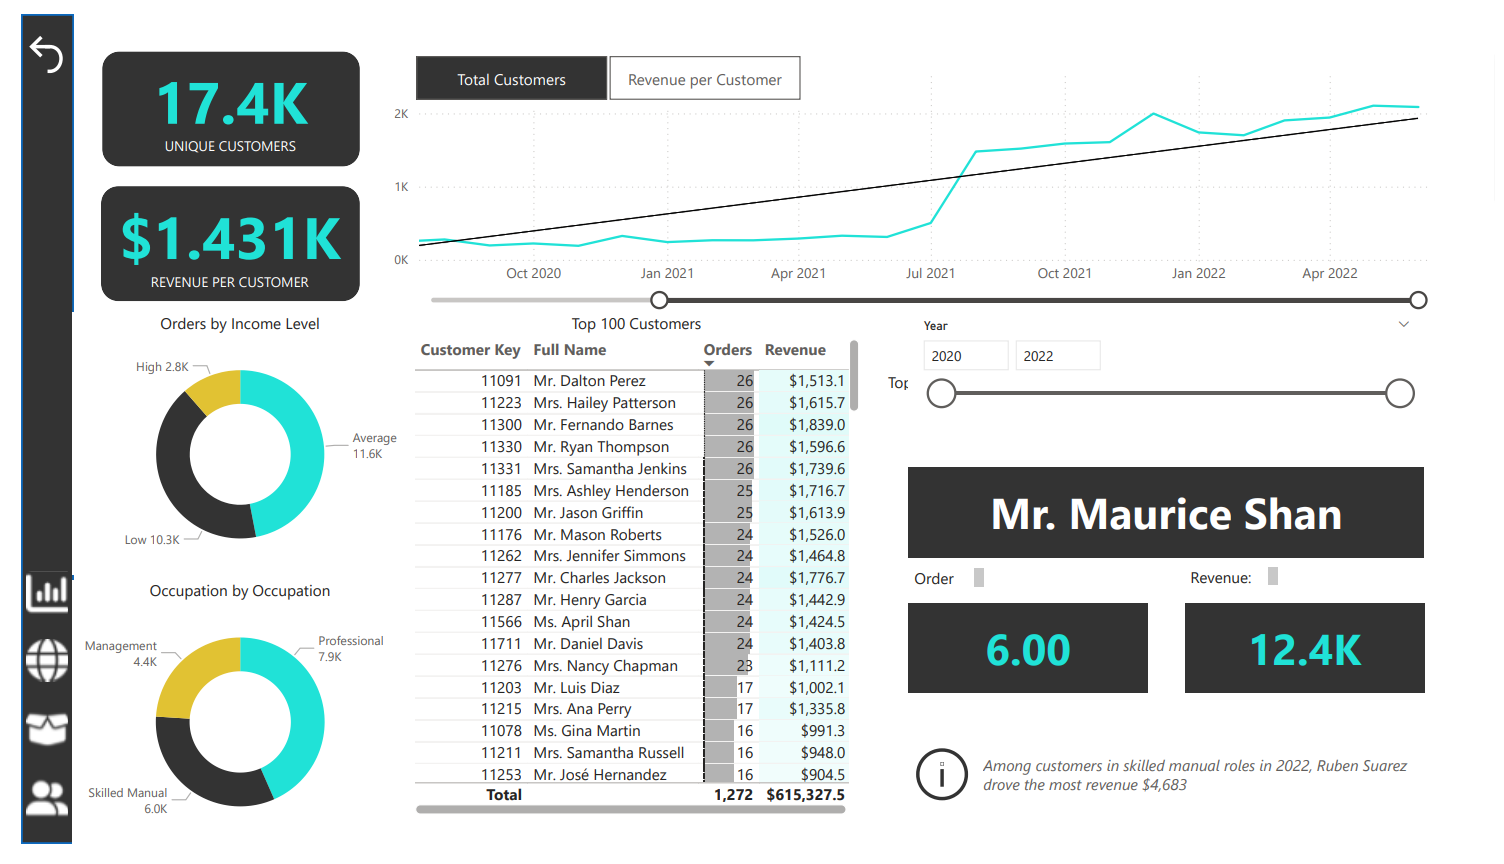

Layout of this report page (visuals, bound fields, positions):
{"tool":"powerbi","page":{"name":"Customer Detail","canvas":[1280,720],"ordinal":3},"visuals":[{"type":"shape","title":"Left Nav Background","box":[0,0,45,720],"z":0},{"type":"actionButton","box":[0,477.1,44.3,50],"z":0,"group":"g1"},{"type":"shape","box":[69.5,31.6,224.3,100],"z":1000},{"type":"actionButton","box":[0,595.9,44.3,50],"z":1000,"group":"g1"},{"type":"shape","box":[68.9,148.9,225,100],"z":2000},{"type":"actionButton","box":[0,655.2,44.3,50],"z":2000,"group":"g1"},{"type":"card","fields":{"Values":["Measure Table.Total Customers"]},"box":[45,0,272.5,162.5],"z":3000},{"type":"actionButton","box":[0,536.5,44.3,50],"z":3000,"group":"g1"},{"type":"card","fields":{"Values":["Measure Table.Average Revenue per Customer"]},"box":[44.6,117.5,272.9,162.9],"z":4000},{"type":"lineChart","fields":{"Y":["Measure Table.Total Customers"],"Category":["Calendar Lookup.Date Hierarchy.Start of Year","Calendar Lookup.Date Hierarchy.Start of Month","Calendar Lookup.Date Hierarchy.Start of Week","Calendar Lookup.Date Hierarchy.Date"]},"box":[317.1,40,927.1,218.6],"z":5000},{"type":"donutChart","title":"Occupation by Occupation","fields":{"Y":["Measure Table.Total Orders"],"Category":["Customer Lookup.Occupation"]},"box":[44.3,491.4,291.4,228.6],"z":6000},{"type":"tableEx","title":"Top 100 Customers","fields":{"Values":["Customer Lookup.CustomerKey","Customer Lookup.Full Name","Measure Table.Total Orders","Measure Table.Total Revenue"]},"box":[335.7,258.6,397.1,441.4],"z":7000},{"type":"card","fields":{"Values":["Customer Lookup.Full Name (Customer Detail)"]},"box":[771.4,393.3,447.1,78.6],"z":8000},{"type":"card","fields":{"Values":["Measure Table.Total Orders (Customer Detail)"]},"box":[771.4,510.9,207.1,78.6],"z":9000},{"type":"card","fields":{"Values":["Measure Table.Total Revenue (Customer Details)"]},"box":[1011.4,510.9,207.1,78.6],"z":10000},{"type":"donutChart","title":"Orders by Income Level","fields":{"Y":["Measure Table.Total Orders"],"Category":["Customer Lookup.Income Level"]},"box":[44.3,258.6,291.4,228.6],"z":11000},{"type":"textbox","box":[1011.4,474.7,85.7,25.7],"z":12000},{"type":"textbox","box":[771.4,476.1,70,25.7],"z":13000},{"type":"textbox","box":[747.9,304.7,207.2,26.1],"z":14000},{"type":"slicer","fields":{"Values":["Calendar Lookup.Date.Variation.Date Hierarchy.Year"]},"box":[771.4,258.6,447.1,92.9],"z":15000},{"type":"actionButton","box":[771.4,631.4,457.1,57.1],"z":16000},{"type":"actionButton","box":[0,12.5,45,43.8],"z":17000},{"type":"group","id":"g1","title":"Navigation Button","box":[0,477.1,44.3,228.1],"z":18000},{"type":"slicer","fields":{"Values":["Customer Metrics Selection.Customer Metrics Selection"]},"box":[317.1,28.6,384.3,52.9],"z":19000}]}

Visuals, with their boxes in screenshot pixels (x1, y1, x2, y2), scaled from the page's 1280x720 canvas onto the 1504x864 screenshot:
"Left Nav Background" shape: <region>0, 0, 53, 863</region>
actionButton: <region>0, 573, 52, 633</region>
shape: <region>82, 38, 345, 158</region>
actionButton: <region>0, 715, 52, 775</region>
shape: <region>81, 179, 345, 299</region>
actionButton: <region>0, 786, 52, 846</region>
card - Measure Table.Total Customers: <region>53, 0, 373, 195</region>
actionButton: <region>0, 644, 52, 704</region>
card - Measure Table.Average Revenue per Customer: <region>52, 141, 373, 336</region>
lineChart - Measure Table.Total Customers x Calendar Lookup.Date Hierarchy.Start of Year: <region>373, 48, 1462, 310</region>
"Occupation by Occupation" donutChart: <region>52, 590, 394, 863</region>
"Top 100 Customers" tableEx: <region>394, 310, 861, 840</region>
card - Customer Lookup.Full Name (Customer Detail): <region>906, 472, 1432, 566</region>
card - Measure Table.Total Orders (Customer Detail): <region>906, 613, 1150, 707</region>
card - Measure Table.Total Revenue (Customer Details): <region>1188, 613, 1432, 707</region>
"Orders by Income Level" donutChart: <region>52, 310, 394, 585</region>
textbox: <region>1188, 570, 1289, 600</region>
textbox: <region>906, 571, 989, 602</region>
textbox: <region>879, 366, 1122, 397</region>
slicer - Calendar Lookup.Date.Variation.Date Hierarchy.Year: <region>906, 310, 1432, 422</region>
actionButton: <region>906, 758, 1443, 826</region>
actionButton: <region>0, 15, 53, 68</region>
"Navigation Button" group: <region>0, 573, 52, 846</region>
slicer - Customer Metrics Selection.Customer Metrics Selection: <region>373, 34, 824, 98</region>
